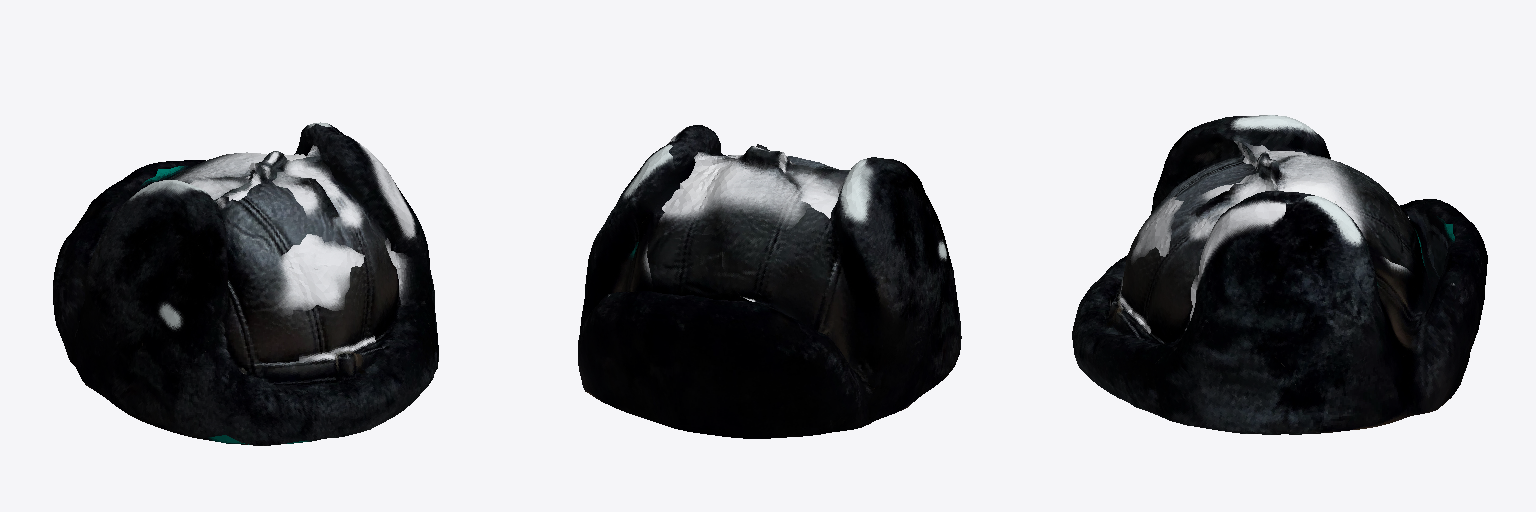
3 views of the same model, side by side, from view 1: azimuth 30°, elevation 25°; view 2: azimuth 150°, elevation 25°; view 3: azimuth 270°, elevation 25° (orthographic).
Size of the model in its own units: 0.2305 by 0.1454 by 0.2655.
1 materials, 1 textured.